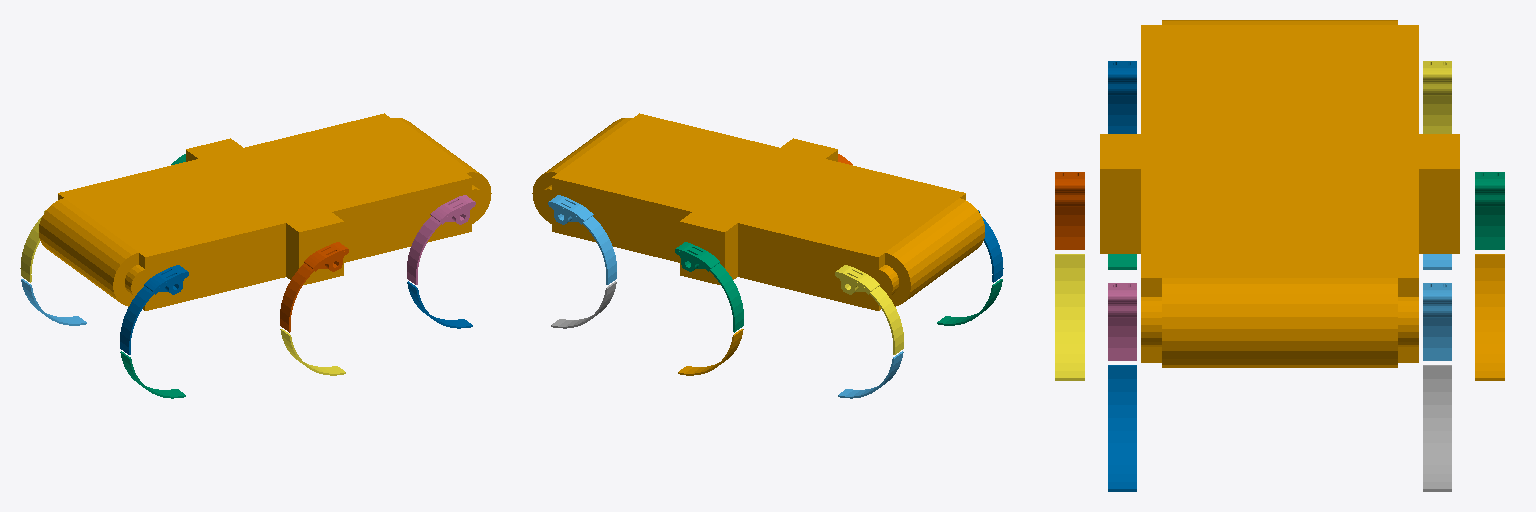
--- Facts derived from the render (not from the file) ---
3 views of the same robot in one strip: view 1: azimuth 30°, elevation 25°; view 2: azimuth 150°, elevation 25°; view 3: azimuth 270°, elevation 25° (orthographic).
Model RHex with 13 links and 12 joints (12 revolute), rooted at link_body, posed all joints at 0.
Links seen in each view (by area): view 1: link_body, link_leg6Upper, link_leg5Upper, link_leg4Upper, link_leg3Upper, link_leg3Lower, link_leg6Lower, link_leg5Lower, link_leg4Lower; view 2: link_body, link_leg1Upper, link_leg2Upper, link_leg3Upper, link_leg4Upper, link_leg4Lower, link_leg1Lower, link_leg2Lower, link_leg3Lower; view 3: link_body, link_leg2Lower, link_leg5Lower, link_leg1Lower, link_leg6Lower, link_leg2Upper, link_leg5Upper, link_leg1Upper, link_leg6Upper, link_leg3Upper, link_leg4Upper.
Link boxes in pixels (<box>): link_body: <box>39,113,491,310</box>; link_leg6Upper: <box>407,195,475,284</box>; link_leg5Upper: <box>280,242,348,332</box>; link_leg4Upper: <box>120,265,188,354</box>; link_leg3Upper: <box>20,210,45,282</box>; link_leg3Lower: <box>21,279,86,325</box>; link_leg6Lower: <box>407,281,472,328</box>; link_leg5Lower: <box>280,329,345,375</box>; link_leg4Lower: <box>120,351,185,398</box>; link_body: <box>532,113,984,310</box>; link_leg1Upper: <box>548,195,616,284</box>; link_leg2Upper: <box>675,242,743,332</box>; link_leg3Upper: <box>835,265,903,354</box>; link_leg4Upper: <box>978,210,1003,282</box>; link_leg4Lower: <box>937,279,1002,325</box>; link_leg1Lower: <box>551,281,616,328</box>; link_leg2Lower: <box>678,329,743,375</box>; link_leg3Lower: <box>838,351,903,398</box>; link_body: <box>1100,20,1459,367</box>; link_leg2Lower: <box>1475,254,1504,380</box>; link_leg5Lower: <box>1055,254,1084,380</box>; link_leg1Lower: <box>1423,365,1451,491</box>; link_leg6Lower: <box>1108,365,1136,491</box>; link_leg2Upper: <box>1475,172,1504,249</box>; link_leg5Upper: <box>1055,172,1084,249</box>; link_leg1Upper: <box>1423,283,1451,360</box>; link_leg6Upper: <box>1108,283,1136,360</box>; link_leg3Upper: <box>1423,61,1451,133</box>; link_leg4Upper: <box>1108,61,1136,133</box>.
Size in the robot's own frame: 0.6617 by 0.428 by 0.2323 metres.
Meshes: 3 distinct files referenced, 13 mesh visuals loaded (3 OBJ).

URDF robot description (RHex):
<?xml version="1.0"?>
  <robot name="RHex">

    <link name="link_body">
      <inertial>
        <origin xyz="0 0 0" rpy="0 0 0"/>
        <mass value="8.0"/>
        <inertia ixx="0.000110" ixy="0" ixz="0" iyy="0.000516" iyz="0" izz="0.000606"/>
      </inertial>
      <visual name="visual_body">
        <origin xyz="0 0 0" rpy="0 0 0"/>
        <geometry>
          <mesh filename="./meshes/obj/mesh_body.obj" scale="1.0 1.0 1.0"/>
        </geometry>
      </visual>
      <collision name="collision_body">
        <origin xyz="0.0 0.0 0.0" rpy="0 0 0"/>
        <geometry>
          <box size="0.50 0.23 0.10"/>
        </geometry>
      </collision>
    </link>

    <link name="link_leg1Upper">
      <inertial>
        <origin xyz="0.0 0.0 -0.02" rpy="0 0 0"/>
        <mass value="0.2"/>
        <inertia ixx="0.002804" ixy="0.0" ixz="-0.002497" iyy="0.005951" iyz="0" izz="0.003613"/>
      </inertial>
      <visual name="visual_leg1Upper">
        <origin xyz="0 0 0" rpy="0 0 0"/>
        <geometry>
          <mesh filename="./meshes/obj/RHexLegUpper.obj" scale="1.0 1.0 1.0"/>
        </geometry>
      </visual>
      <collision name="collision_leg1Upper1">
        <origin xyz="-0.0756 0.0 -0.0898" rpy="0 0 0"/>
        <geometry>
          <sphere radius="0.0075"/>
        </geometry>
      </collision>
      <collision name="collision_leg1Upper2">
        <origin xyz="-0.0754 0.0 -0.0744" rpy="0 0 0"/>
        <geometry>
          <sphere radius="0.0075"/>
        </geometry>
      </collision>
      <collision name="collision_leg1Upper3">
        <origin xyz="-0.0731 0.0 -0.0593" rpy="0 0 0"/>
        <geometry>
          <sphere radius="0.0075"/>
        </geometry>
      </collision>
      <collision name="collision_leg1Upper4">
        <origin xyz="-0.0683 0.0 -0.0448" rpy="0 0 0"/>
        <geometry>
          <sphere radius="0.0075"/>
        </geometry>
      </collision>
      <collision name="collision_leg1Upper5">
        <origin xyz="-0.0605 0.0 -0.0317" rpy="0 0 0"/>
        <geometry>
          <sphere radius="0.0075"/>
        </geometry>
      </collision>
      <collision name="collision_leg1Upper6">
        <origin xyz="-0.0510 0.0 -0.0189" rpy="0 0 0"/>
        <geometry>
          <sphere radius="0.0075"/>
        </geometry>
      </collision>
      <collision name="collision_leg1Upper7">
        <origin xyz="-0.0403 0.0 -0.0088" rpy="0 0 0"/>
        <geometry>
          <sphere radius="0.0075"/>
        </geometry>
      </collision>
      <collision name="collision_leg1Upper8">
        <origin xyz="-0.0239 0.0 -0.0001" rpy="0 0 0"/>
        <geometry>
          <sphere radius="0.0075"/>
        </geometry>
      </collision>
      <collision name="collision_leg1Upper9">
        <origin xyz="0.0015 0.0 0.0040" rpy="0 0 0"/>
        <geometry>
          <sphere radius="0.015"/>
        </geometry>
      </collision>
    </link>

    <link name="link_leg2Upper">
      <inertial>
        <origin xyz="-0.00414 -0.05547 -0.0001" rpy="0 0 0"/>
        <mass value="0.2"/>
        <inertia ixx="0.002804" ixy="0.0" ixz="-0.002497" iyy="0.005951" iyz="0" izz="0.003613"/>
      </inertial>
      <visual name="visual_leg2Upper">
        <origin xyz="0 0 0" rpy="0 0 0"/>
        <geometry>
          <mesh filename="./meshes/obj/RHexLegUpper.obj" scale="1.0 1.0 1.0"/>
        </geometry>
      </visual>
      <collision name="collision_leg2Upper1">
        <origin xyz="-0.0756 0.0 -0.0898" rpy="0 0 0"/>
        <geometry>
          <sphere radius="0.0075"/>
        </geometry>
      </collision>
      <collision name="collision_leg2Upper2">
        <origin xyz="-0.0754 0.0 -0.0744" rpy="0 0 0"/>
        <geometry>
          <sphere radius="0.0075"/>
        </geometry>
      </collision>
      <collision name="collision_leg2Upper3">
        <origin xyz="-0.0731 0.0 -0.0593" rpy="0 0 0"/>
        <geometry>
          <sphere radius="0.0075"/>
        </geometry>
      </collision>
      <collision name="collision_leg2Upper4">
        <origin xyz="-0.0683 0.0 -0.0448" rpy="0 0 0"/>
        <geometry>
          <sphere radius="0.0075"/>
        </geometry>
      </collision>
      <collision name="collision_leg2Upper5">
        <origin xyz="-0.0605 0.0 -0.0317" rpy="0 0 0"/>
        <geometry>
          <sphere radius="0.0075"/>
        </geometry>
      </collision>
      <collision name="collision_leg2Upper6">
        <origin xyz="-0.0510 0.0 -0.0189" rpy="0 0 0"/>
        <geometry>
          <sphere radius="0.0075"/>
        </geometry>
      </collision>
      <collision name="collision_leg2Upper7">
        <origin xyz="-0.0403 0.0 -0.0088" rpy="0 0 0"/>
        <geometry>
          <sphere radius="0.0075"/>
        </geometry>
      </collision>
      <collision name="collision_leg2Upper8">
        <origin xyz="-0.0239 0.0 -0.0001" rpy="0 0 0"/>
        <geometry>
          <sphere radius="0.0075"/>
        </geometry>
      </collision>
      <collision name="collision_leg2Upper9">
        <origin xyz="0.0015 0.0 0.0040" rpy="0 0 0"/>
        <geometry>
          <sphere radius="0.015"/>
        </geometry>
      </collision>
    </link>

    <link name="link_leg3Upper">
      <inertial>
        <origin xyz="-0.00579 -0.04779 -0.0001" rpy="0 0 0"/>
        <mass value="0.2"/>
        <inertia ixx="0.002804" ixy="0.0" ixz="-0.002497" iyy="0.005951" iyz="0" izz="0.003613"/>
      </inertial>
      <visual name="visual_leg3Upper">
        <origin xyz="0 0 0" rpy="0 0 0"/>
        <geometry>
          <mesh filename="./meshes/obj/RHexLegUpper.obj" scale="1.0 1.0 1.0"/>
        </geometry>
      </visual>
      <collision name="collision_leg3Upper1">
        <origin xyz="-0.0756 0.0 -0.0898" rpy="0 0 0"/>
        <geometry>
          <sphere radius="0.0075"/>
        </geometry>
      </collision>
      <collision name="collision_leg3Upper2">
        <origin xyz="-0.0754 0.0 -0.0744" rpy="0 0 0"/>
        <geometry>
          <sphere radius="0.0075"/>
        </geometry>
      </collision>
      <collision name="collision_leg3Upper3">
        <origin xyz="-0.0731 0.0 -0.0593" rpy="0 0 0"/>
        <geometry>
          <sphere radius="0.0075"/>
        </geometry>
      </collision>
      <collision name="collision_leg3Upper4">
        <origin xyz="-0.0683 0.0 -0.0448" rpy="0 0 0"/>
        <geometry>
          <sphere radius="0.0075"/>
        </geometry>
      </collision>
      <collision name="collision_leg3Upper5">
        <origin xyz="-0.0605 0.0 -0.0317" rpy="0 0 0"/>
        <geometry>
          <sphere radius="0.0075"/>
        </geometry>
      </collision>
      <collision name="collision_leg3Upper6">
        <origin xyz="-0.0510 0.0 -0.0189" rpy="0 0 0"/>
        <geometry>
          <sphere radius="0.0075"/>
        </geometry>
      </collision>
      <collision name="collision_leg3Upper7">
        <origin xyz="-0.0403 0.0 -0.0088" rpy="0 0 0"/>
        <geometry>
          <sphere radius="0.0075"/>
        </geometry>
      </collision>
      <collision name="collision_leg3Upper8">
        <origin xyz="-0.0239 0.0 -0.0001" rpy="0 0 0"/>
        <geometry>
          <sphere radius="0.0075"/>
        </geometry>
      </collision>
      <collision name="collision_leg3Upper9">
        <origin xyz="0.0015 0.0 0.0040" rpy="0 0 0"/>
        <geometry>
          <sphere radius="0.015"/>
        </geometry>
      </collision>
    </link>

    <link name="link_leg4Upper">
      <inertial>
        <origin xyz="0.00364 -0.0587 -0.0001" rpy="0 0 0"/>
        <mass value="0.2"/>
        <inertia ixx="0.002804" ixy="0.0" ixz="-0.002497" iyy="0.005951" iyz="0" izz="0.003613"/>
      </inertial>
      <visual name="visual_leg4Upper">
        <origin xyz="0 0 0" rpy="0 0 0"/>
        <geometry>
          <mesh filename="./meshes/obj/RHexLegUpper.obj" scale="1.0 1.0 1.0"/>
        </geometry>
      </visual>
      <collision name="collision_leg4Upper1">
        <origin xyz="-0.0756 0.0 -0.0898" rpy="0 0 0"/>
        <geometry>
          <sphere radius="0.0075"/>
        </geometry>
      </collision>
      <collision name="collision_leg4Upper2">
        <origin xyz="-0.0754 0.0 -0.0744" rpy="0 0 0"/>
        <geometry>
          <sphere radius="0.0075"/>
        </geometry>
      </collision>
      <collision name="collision_leg4Upper3">
        <origin xyz="-0.0731 0.0 -0.0593" rpy="0 0 0"/>
        <geometry>
          <sphere radius="0.0075"/>
        </geometry>
      </collision>
      <collision name="collision_leg4Upper4">
        <origin xyz="-0.0683 0.0 -0.0448" rpy="0 0 0"/>
        <geometry>
          <sphere radius="0.0075"/>
        </geometry>
      </collision>
      <collision name="collision_leg4Upper5">
        <origin xyz="-0.0605 0.0 -0.0317" rpy="0 0 0"/>
        <geometry>
          <sphere radius="0.0075"/>
        </geometry>
      </collision>
      <collision name="collision_leg4Upper6">
        <origin xyz="-0.0510 0.0 -0.0189" rpy="0 0 0"/>
        <geometry>
          <sphere radius="0.0075"/>
        </geometry>
      </collision>
      <collision name="collision_leg4Upper7">
        <origin xyz="-0.0403 0.0 -0.0088" rpy="0 0 0"/>
        <geometry>
          <sphere radius="0.0075"/>
        </geometry>
      </collision>
      <collision name="collision_leg4Upper8">
        <origin xyz="-0.0239 0.0 -0.0001" rpy="0 0 0"/>
        <geometry>
          <sphere radius="0.0075"/>
        </geometry>
      </collision>
      <collision name="collision_leg4Upper9">
        <origin xyz="0.0015 0.0 0.0040" rpy="0 0 0"/>
        <geometry>
          <sphere radius="0.015"/>
        </geometry>
      </collision>
    </link>

    <link name="link_leg5Upper">
      <inertial>
        <origin xyz="-0.01428 -0.0677 -0.0001" rpy="0 0 0"/>
        <mass value="0.2"/>
        <inertia ixx="0.002804" ixy="0.0" ixz="-0.002497" iyy="0.005951" iyz="0" izz="0.003613"/>
      </inertial>
      <visual name="visual_leg5Upper">
        <origin xyz="0 0 0" rpy="0 0 0"/>
        <geometry>
          <mesh filename="./meshes/obj/RHexLegUpper.obj" scale="1.0 1.0 1.0"/>
        </geometry>
      </visual>
      <collision name="collision_leg5Upper1">
        <origin xyz="-0.0756 0.0 -0.0898" rpy="0 0 0"/>
        <geometry>
          <sphere radius="0.0075"/>
        </geometry>
      </collision>
      <collision name="collision_leg5Upper2">
        <origin xyz="-0.0754 0.0 -0.0744" rpy="0 0 0"/>
        <geometry>
          <sphere radius="0.0075"/>
        </geometry>
      </collision>
      <collision name="collision_leg5Upper3">
        <origin xyz="-0.0731 0.0 -0.0593" rpy="0 0 0"/>
        <geometry>
          <sphere radius="0.0075"/>
        </geometry>
      </collision>
      <collision name="collision_leg5Upper4">
        <origin xyz="-0.0683 0.0 -0.0448" rpy="0 0 0"/>
        <geometry>
          <sphere radius="0.0075"/>
        </geometry>
      </collision>
      <collision name="collision_leg5Upper5">
        <origin xyz="-0.0605 0.0 -0.0317" rpy="0 0 0"/>
        <geometry>
          <sphere radius="0.0075"/>
        </geometry>
      </collision>
      <collision name="collision_leg5Upper6">
        <origin xyz="-0.0510 0.0 -0.0189" rpy="0 0 0"/>
        <geometry>
          <sphere radius="0.0075"/>
        </geometry>
      </collision>
      <collision name="collision_leg5Upper7">
        <origin xyz="-0.0403 0.0 -0.0088" rpy="0 0 0"/>
        <geometry>
          <sphere radius="0.0075"/>
        </geometry>
      </collision>
      <collision name="collision_leg5Upper8">
        <origin xyz="-0.0239 0.0 -0.0001" rpy="0 0 0"/>
        <geometry>
          <sphere radius="0.0075"/>
        </geometry>
      </collision>
      <collision name="collision_leg5Upper9">
        <origin xyz="0.0015 0.0 0.0040" rpy="0 0 0"/>
        <geometry>
          <sphere radius="0.015"/>
        </geometry>
      </collision>
    </link>

    <link name="link_leg6Upper">
      <inertial>
        <origin xyz="-0.03331 -0.08349 -0.0001" rpy="0 0 0"/>
        <mass value="0.2"/>
        <inertia ixx="0.002804" ixy="0.0" ixz="-0.002497" iyy="0.005951" iyz="0" izz="0.003613"/>
      </inertial>
      <visual name="visual_leg6Upper">
        <origin xyz="0 0 0" rpy="0 0 0"/>
        <geometry>
          <mesh filename="./meshes/obj/RHexLegUpper.obj" scale="1.0 1.0 1.0"/>
        </geometry>
      </visual>
      <collision name="collision_leg6Upper1">
        <origin xyz="-0.0756 0.0 -0.0898" rpy="0 0 0"/>
        <geometry>
          <sphere radius="0.0075"/>
        </geometry>
      </collision>
      <collision name="collision_leg6Upper2">
        <origin xyz="-0.0754 0.0 -0.0744" rpy="0 0 0"/>
        <geometry>
          <sphere radius="0.0075"/>
        </geometry>
      </collision>
      <collision name="collision_leg6Upper3">
        <origin xyz="-0.0731 0.0 -0.0593" rpy="0 0 0"/>
        <geometry>
          <sphere radius="0.0075"/>
        </geometry>
      </collision>
      <collision name="collision_leg6Upper4">
        <origin xyz="-0.0683 0.0 -0.0448" rpy="0 0 0"/>
        <geometry>
          <sphere radius="0.0075"/>
        </geometry>
      </collision>
      <collision name="collision_leg6Upper5">
        <origin xyz="-0.0605 0.0 -0.0317" rpy="0 0 0"/>
        <geometry>
          <sphere radius="0.0075"/>
        </geometry>
      </collision>
      <collision name="collision_leg6Upper6">
        <origin xyz="-0.0510 0.0 -0.0189" rpy="0 0 0"/>
        <geometry>
          <sphere radius="0.0075"/>
        </geometry>
      </collision>
      <collision name="collision_leg6Upper7">
        <origin xyz="-0.0403 0.0 -0.0088" rpy="0 0 0"/>
        <geometry>
          <sphere radius="0.0075"/>
        </geometry>
      </collision>
      <collision name="collision_leg6Upper8">
        <origin xyz="-0.0239 0.0 -0.0001" rpy="0 0 0"/>
        <geometry>
          <sphere radius="0.0075"/>
        </geometry>
      </collision>
      <collision name="collision_leg6Upper9">
        <origin xyz="0.0015 0.0 0.0040" rpy="0 0 0"/>
        <geometry>
          <sphere radius="0.015"/>
        </geometry>
      </collision>
    </link>

    <joint name="joint1" type="revolute">
      <origin xyz="0.25 0.15 0" rpy="0 0 0"/>
      <parent link="link_body"/>
      <child link="link_leg1Upper"/>
      <axis xyz="0 -1 0"/>
      <limit  effort="20" velocity="25"/>
    </joint>

    <joint name="joint2" type="revolute">
      <origin xyz="0 0.20 0" rpy="0 0 0"/>
      <parent link="link_body"/>
      <child link="link_leg2Upper"/>
      <axis xyz="0 -1 0"/>
      <limit  effort="20" velocity="25"/>
    </joint>

    <joint name="joint3" type="revolute">
      <origin xyz="-0.25 0.15 0" rpy="0 0 0"/>
      <parent link="link_body"/>
      <child link="link_leg3Upper"/>
      <axis xyz="0 -1 0"/>
      <limit  effort="20" velocity="25"/>
    </joint>

    <joint name="joint4" type="revolute">
      <origin xyz="-0.25 -0.15 0" rpy="0 0 0"/>
      <parent link="link_body"/>
      <child link="link_leg4Upper"/>
      <axis xyz="0 -1 0"/>
      <limit  effort="20" velocity="25"/>
    </joint>

    <joint name="joint5" type="revolute">
      <origin xyz="0 -0.20 0" rpy="0 0 0"/>
      <parent link="link_body"/>
      <child link="link_leg5Upper"/>
      <axis xyz="0 -1 0"/>
      <limit  effort="20" velocity="25"/>
    </joint>

    <joint name="joint6" type="revolute">
      <origin xyz="0.25 -0.15 0" rpy="0 0 0"/>
      <parent link="link_body"/>
      <child link="link_leg6Upper"/>
      <axis xyz="0 -1 0"/>
      <limit  effort="20" velocity="25"/>
    </joint>

    <link name="link_leg1Lower">
      <inertial>
        <origin xyz="-0.00261 -0.02874 -0.0001" rpy="0 0 0"/>
        <mass value="0.050"/>
        <inertia ixx="0.000892" ixy="0.000855" ixz="0" iyy="0.001118" iyz="0" izz="0.001855"/>
      </inertial>
      <visual name="visual_leg1Lower">
        <origin xyz="0 0 0" rpy="0 0 0"/>
        <geometry>
          <mesh filename="./meshes/obj/RHexLegLower.obj" scale="1.0 1.0 1.0"/>
        </geometry>
      </visual>
      <collision name="collision_leg1Lower1">
        <origin xyz="0.095 0.0 -0.085" rpy="0 0 0"/>
        <geometry>
          <sphere radius="0.0050"/>
        </geometry>
      </collision>
      <collision name="collision_leg1Lower2">
        <origin xyz="0.08468 0.0 -0.08254" rpy="0 0 0"/>
        <geometry>
          <sphere radius="0.0075"/>
        </geometry>
      </collision>
      <collision name="collision_leg1Lower3">
        <origin xyz="0.06998 0.0 -0.07874" rpy="0 0 0"/>
        <geometry>
          <sphere radius="0.0075"/>
        </geometry>
      </collision>
      <collision name="collision_leg1Lower4">
        <origin xyz="0.05660 0.0 -0.07359" rpy="0 0 0"/>
        <geometry>
          <sphere radius="0.0075"/>
        </geometry>
      </collision>
      <collision name="collision_leg1Lower5">
        <origin xyz="0.04344 0.0 -0.06553" rpy="0 0 0"/>
        <geometry>
          <sphere radius="0.0075"/>
        </geometry>
      </collision>
      <collision name="collision_leg1Lower6">
        <origin xyz="0.03148 0.0 -0.05552" rpy="0 0 0"/>
        <geometry>
          <sphere radius="0.0075"/>
        </geometry>
      </collision>
      <collision name="collision_leg1Lower7">
        <origin xyz="0.02374 0.0 -0.04531" rpy="0 0 0"/>
        <geometry>
          <sphere radius="0.0075"/>
        </geometry>
      </collision>
      <collision name="collision_leg1Lower8">
        <origin xyz="0.01599 0.0 -0.03279" rpy="0 0 0"/>
        <geometry>
          <sphere radius="0.0075"/>
        </geometry>
      </collision>
      <collision name="collision_leg1Lower9">
        <origin xyz="0.01117 0.0 -0.01897" rpy="0 0 0"/>
        <geometry>
          <sphere radius="0.0075"/>
        </geometry>
      </collision>
    </link>

    <link name="link_leg2Lower">
      <inertial>
        <origin xyz="-0.00261 -0.02874 -0.0001" rpy="0 0 0"/>
        <mass value="0.050"/>
        <inertia ixx="0.000892" ixy="0.000855" ixz="0" iyy="0.001118" iyz="0" izz="0.001855"/>
      </inertial>
      <visual name="visual_leg2Lower">
        <origin xyz="0 0 0" rpy="0 0 0"/>
        <geometry>
          <mesh filename="./meshes/obj/RHexLegLower.obj" scale="1.0 1.0 1.0"/>
        </geometry>
      </visual>
      <collision name="collision_leg2Lower1">
        <origin xyz="0.095 0.0 -0.085" rpy="0 0 0"/>
        <geometry>
          <sphere radius="0.0050"/>
        </geometry>
      </collision>
      <collision name="collision_leg2Lower2">
        <origin xyz="0.08468 0.0 -0.08254" rpy="0 0 0"/>
        <geometry>
          <sphere radius="0.0075"/>
        </geometry>
      </collision>
      <collision name="collision_leg2Lower3">
        <origin xyz="0.06998 0.0 -0.07874" rpy="0 0 0"/>
        <geometry>
          <sphere radius="0.0075"/>
        </geometry>
      </collision>
      <collision name="collision_leg2Lower4">
        <origin xyz="0.05660 0.0 -0.07359" rpy="0 0 0"/>
        <geometry>
          <sphere radius="0.0075"/>
        </geometry>
      </collision>
      <collision name="collision_leg2Lower5">
        <origin xyz="0.04344 0.0 -0.06553" rpy="0 0 0"/>
        <geometry>
          <sphere radius="0.0075"/>
        </geometry>
      </collision>
      <collision name="collision_leg2Lower6">
        <origin xyz="0.03148 0.0 -0.05552" rpy="0 0 0"/>
        <geometry>
          <sphere radius="0.0075"/>
        </geometry>
      </collision>
      <collision name="collision_leg2Lower7">
        <origin xyz="0.02374 0.0 -0.04531" rpy="0 0 0"/>
        <geometry>
          <sphere radius="0.0075"/>
        </geometry>
      </collision>
      <collision name="collision_leg2Lower8">
        <origin xyz="0.01599 0.0 -0.03279" rpy="0 0 0"/>
        <geometry>
          <sphere radius="0.0075"/>
        </geometry>
      </collision>
      <collision name="collision_leg2Lower9">
        <origin xyz="0.01117 0.0 -0.01897" rpy="0 0 0"/>
        <geometry>
          <sphere radius="0.0075"/>
        </geometry>
      </collision>
    </link>

    <link name="link_leg3Lower">
      <inertial>
        <origin xyz="-0.00261 -0.02874 -0.0001" rpy="0 0 0"/>
        <mass value="0.050"/>
        <inertia ixx="0.000892" ixy="0.000855" ixz="0" iyy="0.001118" iyz="0" izz="0.001855"/>
      </inertial>
      <visual name="visual_leg3Lower">
        <origin xyz="0 0 0" rpy="0 0 0"/>
        <geometry>
          <mesh filename="./meshes/obj/RHexLegLower.obj" scale="1.0 1.0 1.0"/>
        </geometry>
      </visual>
      <collision name="collision_leg3Lower1">
        <origin xyz="0.095 0.0 -0.085" rpy="0 0 0"/>
        <geometry>
          <sphere radius="0.0050"/>
        </geometry>
      </collision>
      <collision name="collision_leg3Lower2">
        <origin xyz="0.08468 0.0 -0.08254" rpy="0 0 0"/>
        <geometry>
          <sphere radius="0.0075"/>
        </geometry>
      </collision>
      <collision name="collision_leg3Lower3">
        <origin xyz="0.06998 0.0 -0.07874" rpy="0 0 0"/>
        <geometry>
          <sphere radius="0.0075"/>
        </geometry>
      </collision>
      <collision name="collision_leg3Lower4">
        <origin xyz="0.05660 0.0 -0.07359" rpy="0 0 0"/>
        <geometry>
          <sphere radius="0.0075"/>
        </geometry>
      </collision>
      <collision name="collision_leg3Lower5">
        <origin xyz="0.04344 0.0 -0.06553" rpy="0 0 0"/>
        <geometry>
          <sphere radius="0.0075"/>
        </geometry>
      </collision>
      <collision name="collision_leg3Lower6">
        <origin xyz="0.03148 0.0 -0.05552" rpy="0 0 0"/>
        <geometry>
          <sphere radius="0.0075"/>
        </geometry>
      </collision>
      <collision name="collision_leg3Lower7">
        <origin xyz="0.02374 0.0 -0.04531" rpy="0 0 0"/>
        <geometry>
          <sphere radius="0.0075"/>
        </geometry>
      </collision>
      <collision name="collision_leg3Lower8">
        <origin xyz="0.01599 0.0 -0.03279" rpy="0 0 0"/>
        <geometry>
          <sphere radius="0.0075"/>
        </geometry>
      </collision>
      <collision name="collision_leg3Lower9">
        <origin xyz="0.01117 0.0 -0.01897" rpy="0 0 0"/>
        <geometry>
          <sphere radius="0.0075"/>
        </geometry>
      </collision>
    </link>

    <link name="link_leg4Lower">
      <inertial>
        <origin xyz="-0.00261 -0.02874 -0.0001" rpy="0 0 0"/>
        <mass value="0.050"/>
        <inertia ixx="0.000892" ixy="0.000855" ixz="0" iyy="0.001118" iyz="0" izz="0.001855"/>
      </inertial>
      <visual name="visual_leg4Lower">
        <origin xyz="0 0 0" rpy="0 0 0"/>
        <geometry>
          <mesh filename="./meshes/obj/RHexLegLower.obj" scale="1.0 1.0 1.0"/>
        </geometry>
      </visual>
      <collision name="collision_leg4Lower1">
        <origin xyz="0.095 0.0 -0.085" rpy="0 0 0"/>
        <geometry>
          <sphere radius="0.0050"/>
        </geometry>
      </collision>
      <collision name="collision_leg4Lower2">
        <origin xyz="0.08468 0.0 -0.08254" rpy="0 0 0"/>
        <geometry>
          <sphere radius="0.0075"/>
        </geometry>
      </collision>
      <collision name="collision_leg4Lower3">
        <origin xyz="0.06998 0.0 -0.07874" rpy="0 0 0"/>
        <geometry>
          <sphere radius="0.0075"/>
        </geometry>
      </collision>
      <collision name="collision_leg4Lower4">
        <origin xyz="0.05660 0.0 -0.07359" rpy="0 0 0"/>
        <geometry>
          <sphere radius="0.0075"/>
        </geometry>
      </collision>
      <collision name="collision_leg4Lower5">
        <origin xyz="0.04344 0.0 -0.06553" rpy="0 0 0"/>
        <geometry>
          <sphere radius="0.0075"/>
        </geometry>
      </collision>
      <collision name="collision_leg4Lower6">
        <origin xyz="0.03148 0.0 -0.05552" rpy="0 0 0"/>
        <geometry>
          <sphere radius="0.0075"/>
        </geometry>
      </collision>
      <collision name="collision_leg4Lower7">
        <origin xyz="0.02374 0.0 -0.04531" rpy="0 0 0"/>
        <geometry>
          <sphere radius="0.0075"/>
        </geometry>
      </collision>
      <collision name="collision_leg4Lower8">
        <origin xyz="0.01599 0.0 -0.03279" rpy="0 0 0"/>
        <geometry>
          <sphere radius="0.0075"/>
        </geometry>
      </collision>
      <collision name="collision_leg4Lower9">
        <origin xyz="0.01117 0.0 -0.01897" rpy="0 0 0"/>
        <geometry>
          <sphere radius="0.0075"/>
        </geometry>
      </collision>
    </link>

    <link name="link_leg5Lower">
      <inertial>
        <origin xyz="-0.00261 -0.02874 -0.0001" rpy="0 0 0"/>
        <mass value="0.050"/>
        <inertia ixx="0.000892" ixy="0.000855" ixz="0" iyy="0.001118" iyz="0" izz="0.001855"/>
      </inertial>
      <visual name="visual_leg5Lower">
        <origin xyz="0 0 0" rpy="0 0 0"/>
        <geometry>
          <mesh filename="./meshes/obj/RHexLegLower.obj" scale="1.0 1.0 1.0"/>
        </geometry>
      </visual>
      <collision name="collision_leg5Lower1">
        <origin xyz="0.095 0.0 -0.085" rpy="0 0 0"/>
        <geometry>
          <sphere radius="0.0050"/>
        </geometry>
      </collision>
      <collision name="collision_leg5Lower2">
        <origin xyz="0.08468 0.0 -0.08254" rpy="0 0 0"/>
        <geometry>
          <sphere radius="0.0075"/>
        </geometry>
      </collision>
      <collision name="collision_leg5Lower3">
        <origin xyz="0.06998 0.0 -0.07874" rpy="0 0 0"/>
        <geometry>
          <sphere radius="0.0075"/>
        </geometry>
      </collision>
      <collision name="collision_leg5Lower4">
        <origin xyz="0.05660 0.0 -0.07359" rpy="0 0 0"/>
        <geometry>
          <sphere radius="0.0075"/>
        </geometry>
      </collision>
      <collision name="collision_leg5Lower5">
        <origin xyz="0.04344 0.0 -0.06553" rpy="0 0 0"/>
        <geometry>
          <sphere radius="0.0075"/>
        </geometry>
      </collision>
      <collision name="collision_leg5Lower6">
        <origin xyz="0.03148 0.0 -0.05552" rpy="0 0 0"/>
        <geometry>
          <sphere radius="0.0075"/>
        </geometry>
      </collision>
      <collision name="collision_leg5Lower7">
        <origin xyz="0.02374 0.0 -0.04531" rpy="0 0 0"/>
        <geometry>
          <sphere radius="0.0075"/>
        </geometry>
      </collision>
      <collision name="collision_leg5Lower8">
        <origin xyz="0.01599 0.0 -0.03279" rpy="0 0 0"/>
        <geometry>
          <sphere radius="0.0075"/>
        </geometry>
      </collision>
      <collision name="collision_leg5Lower9">
        <origin xyz="0.01117 0.0 -0.01897" rpy="0 0 0"/>
        <geometry>
          <sphere radius="0.0075"/>
        </geometry>
      </collision>
    </link>

    <link name="link_leg6Lower">
      <inertial>
        <origin xyz="-0.00261 -0.02874 -0.0001" rpy="0 0 0"/>
        <mass value="0.050"/>
        <inertia ixx="0.000892" ixy="0.000855" ixz="0" iyy="0.001118" iyz="0" izz="0.001855"/>
      </inertial>
      <visual name="visual_leg6Lower">
        <origin xyz="0 0 0" rpy="0 0 0"/>
        <geometry>
          <mesh filename="./meshes/obj/RHexLegLower.obj" scale="1.0 1.0 1.0"/>
        </geometry>
      </visual>
      <collision name="collision_leg6Lower1">
        <origin xyz="0.095 0.0 -0.085" rpy="0 0 0"/>
        <geometry>
          <sphere radius="0.0050"/>
        </geometry>
      </collision>
      <collision name="collision_leg6Lower2">
        <origin xyz="0.08468 0.0 -0.08254" rpy="0 0 0"/>
        <geometry>
          <sphere radius="0.0075"/>
        </geometry>
      </collision>
      <collision name="collision_leg6Lower3">
        <origin xyz="0.06998 0.0 -0.07874" rpy="0 0 0"/>
        <geometry>
          <sphere radius="0.0075"/>
        </geometry>
      </collision>
      <collision name="collision_leg6Lower4">
        <origin xyz="0.05660 0.0 -0.07359" rpy="0 0 0"/>
        <geometry>
          <sphere radius="0.0075"/>
        </geometry>
      </collision>
      <collision name="collision_leg6Lower5">
        <origin xyz="0.04344 0.0 -0.06553" rpy="0 0 0"/>
        <geometry>
          <sphere radius="0.0075"/>
        </geometry>
      </collision>
      <collision name="collision_leg6Lower6">
        <origin xyz="0.03148 0.0 -0.05552" rpy="0 0 0"/>
        <geometry>
          <sphere radius="0.0075"/>
        </geometry>
      </collision>
      <collision name="collision_leg6Lower7">
        <origin xyz="0.02374 0.0 -0.04531" rpy="0 0 0"/>
        <geometry>
          <sphere radius="0.0075"/>
        </geometry>
      </collision>
      <collision name="collision_leg6Lower8">
        <origin xyz="0.01599 0.0 -0.03279" rpy="0 0 0"/>
        <geometry>
          <sphere radius="0.0075"/>
        </geometry>
      </collision>
      <collision name="collision_leg6Lower9">
        <origin xyz="0.01117 0.0 -0.01897" rpy="0 0 0"/>
        <geometry>
          <sphere radius="0.0075"/>
        </geometry>
      </collision>
    </link>

    <joint name="Leg1Joint" type="revolute">
      <origin xyz="-0.080 0.0 -0.099" rpy="0 0 0"/>
      <parent link="link_leg1Upper"/>
      <child link="link_leg1Lower"/>
      <axis xyz="0 -1 0"/>
      <limit effort="0.0" lower="-0.2" upper="0.2" velocity="0.0"/>
      <dynamics damping="10.0" stiffness="100"/>
    </joint>

    <joint name="Leg2Joint" type="revolute">
      <origin xyz="-0.080 0.0 -0.099" rpy="0 0 0"/>
      <parent link="link_leg2Upper"/>
      <child link="link_leg2Lower"/>
      <axis xyz="0 -1 0"/>
      <limit effort="0.0" lower="-0.2" upper="0.2" velocity="0.0"/>
      <dynamics damping="10.0" stiffness="100"/>
    </joint>

    <joint name="Leg3Joint" type="revolute">
      <origin xyz="-0.080 0.0 -0.099" rpy="0 0 0"/>
      <parent link="link_leg3Upper"/>
      <child link="link_leg3Lower"/>
      <axis xyz="0 -1 0"/>
      <limit effort="0.0" lower="-0.2" upper="0.2" velocity="0.0"/>
      <dynamics damping="10.0" stiffness="100"/>
    </joint>

    <joint name="Leg4Joint" type="revolute">
      <origin xyz="-0.080 0.0 -0.099" rpy="0 0 0"/>
      <parent link="link_leg4Upper"/>
      <child link="link_leg4Lower"/>
      <axis xyz="0 -1 0"/>
      <limit effort="0.0" lower="-0.2" upper="0.2" velocity="0.0"/>
      <dynamics damping="10.0" stiffness="100"/>
    </joint>

    <joint name="Leg5Joint" type="revolute">
      <origin xyz="-0.080 0.0 -0.099" rpy="0 0 0"/>
      <parent link="link_leg5Upper"/>
      <child link="link_leg5Lower"/>
      <axis xyz="0 -1 0"/>
      <limit effort="0.0" lower="-0.2" upper="0.2" velocity="0.0"/>
      <dynamics damping="10.0" stiffness="100"/>
    </joint>

    <joint name="Leg6Joint" type="revolute">
      <origin xyz="-0.080 0.0 -0.099" rpy="0 0 0"/>
      <parent link="link_leg6Upper"/>
      <child link="link_leg6Lower"/>
      <axis xyz="0 -1 0"/>
      <limit effort="0.0" lower="-0.2" upper="0.2" velocity="0.0"/>
      <dynamics damping="10.0" stiffness="100"/>
    </joint>

  </robot>
